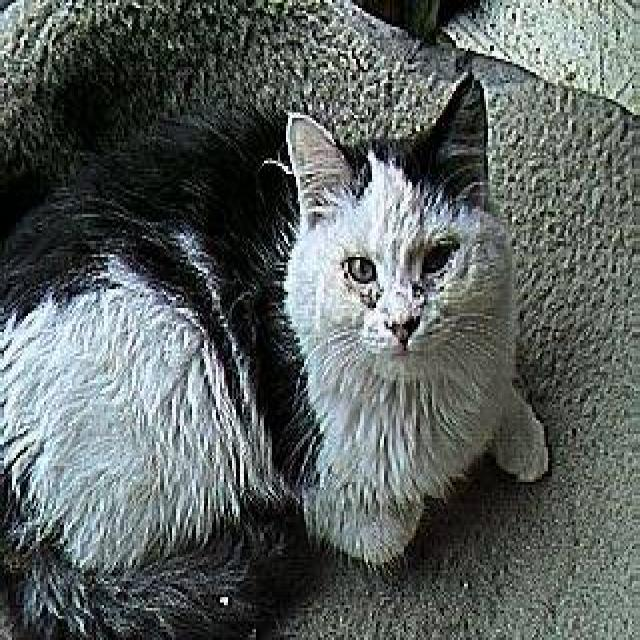cat: (0, 67, 550, 637)
